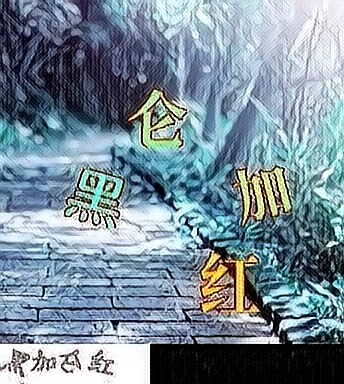BADA: (63, 166, 125, 230)
BAEC: (196, 251, 258, 315)
BCD3: (230, 161, 292, 225)
C2D8: (128, 86, 190, 150)
